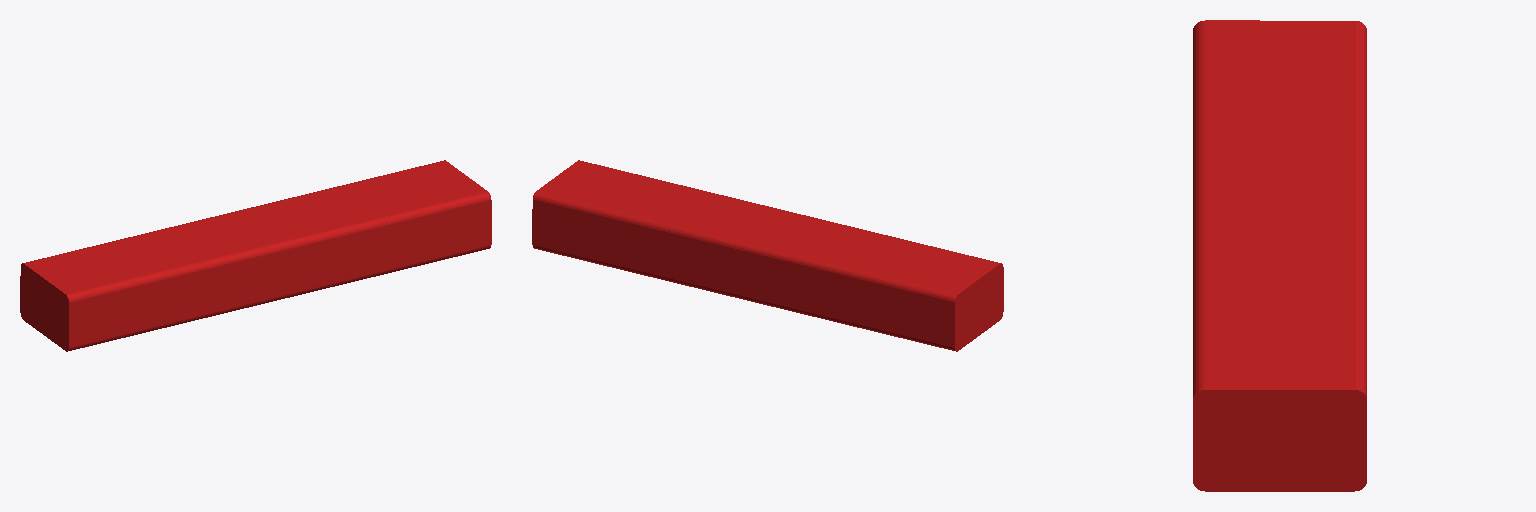
robot.urdf — fmb_rrect_peg:
<?xml version="1.0"?>
<!-- FMB rrect peg (FMB cross-section s23, native 32.4 x 20.9 mm, uniform xsec scale 0.9250), 150 mm long, 57.8 g. Generated by FoundationTouch tools/fmb_insertion/make_fmb_insertion_assets.py -->
<robot name="fmb_rrect_peg">
  <material name="c"><color rgba="0.80 0.16 0.16 1.0"/></material>
  <link name="fmb_peg">
    <visual><origin xyz="0 0 0" rpy="0 0 0"/><geometry><mesh filename="peg_visual.obj" scale="1 1 1"/></geometry><material name="c"/></visual>
    <collision><origin xyz="0 0 0" rpy="0 0 0"/><geometry><mesh filename="peg_coll_00.obj" scale="1 1 1"/></geometry></collision>
    <collision><origin xyz="0 0 0" rpy="0 0 0"/><geometry><mesh filename="peg_coll_01.obj" scale="1 1 1"/></geometry></collision>
    <collision><origin xyz="0 0 0" rpy="0 0 0"/><geometry><mesh filename="peg_coll_02.obj" scale="1 1 1"/></geometry></collision>
    <inertial><mass value="0.057800"/><origin xyz="0.000000 -0.000000 -0.000000" rpy="0 0 0"/><inertia ixx="6.043676e-06" ixy="-0.000000e+00" ixz="2.892182e-22" iyy="1.101440e-04" iyz="1.306786e-09" izz="1.126497e-04"/></inertial>
  </link>
</robot>

--- What the picture shows (computed from the rendered views, not written in the file) ---
The picture shows the robot from 3 angles, left to right: view 1: azimuth 30°, elevation 25°; view 2: azimuth 150°, elevation 25°; view 3: azimuth 270°, elevation 25°; orthographic projection.
Robot: fmb_rrect_peg — 1 links, 0 joints (none); root link fmb_peg; default pose: every joint at zero.
Visible links, largest first — view 1: fmb_peg; view 2: fmb_peg; view 3: fmb_peg.
Link boxes in pixels (x1,y1,x2,y2): fmb_peg: (20,160,491,351); fmb_peg: (532,160,1003,351); fmb_peg: (1193,20,1366,491).
Bounding box of the posed robot: 0.15 × 0.03 × 0.0193 m (x, y, z).
1 mesh visuals loaded from 1 distinct referenced files (1 OBJ).
